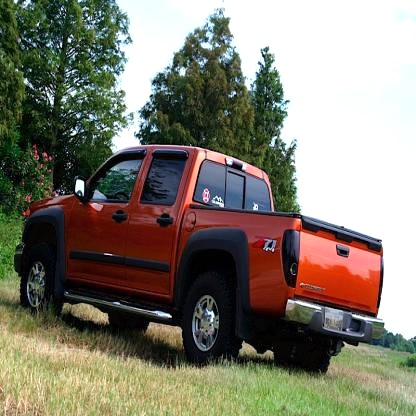Vehicle: (13, 141, 385, 376)
